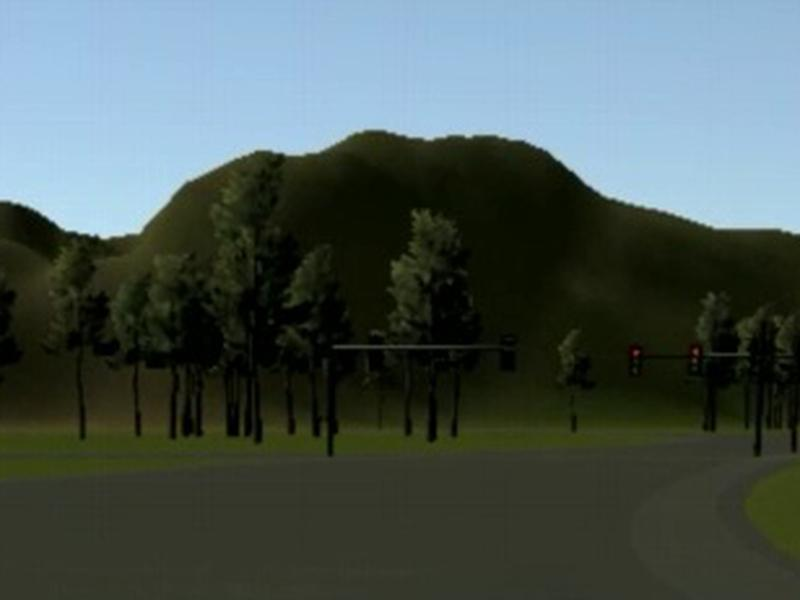Red: (629, 345, 641, 374), (688, 347, 699, 376)
